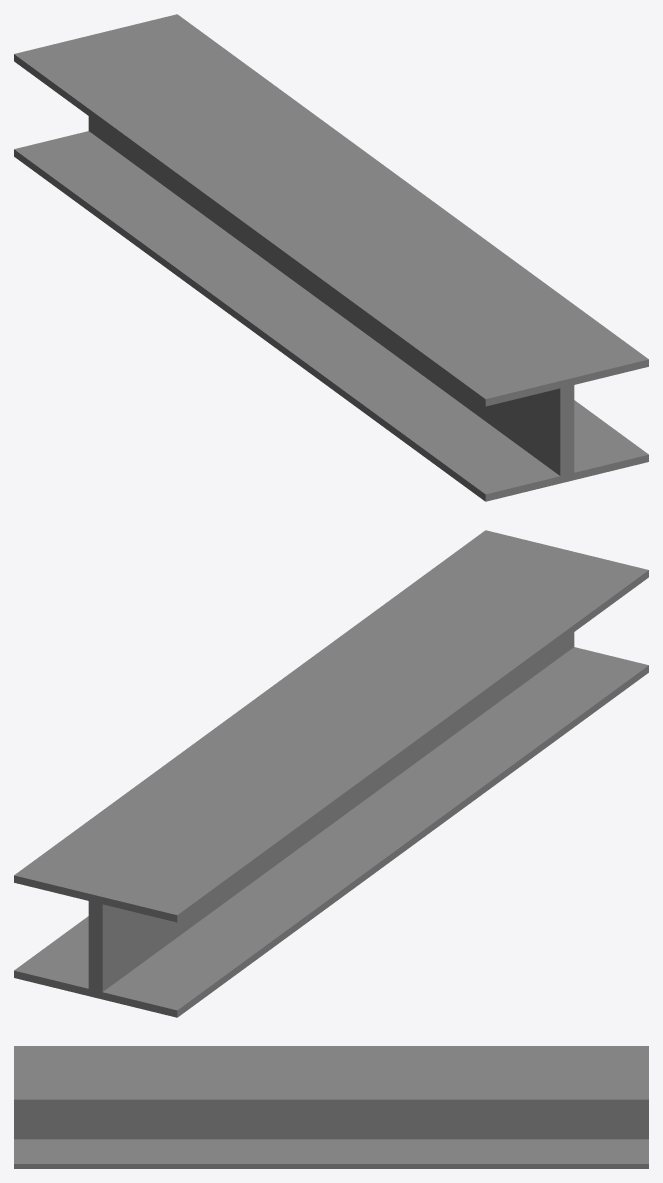
The model's file is ironbeam.glb.
3 views of the same model, one above another, from view 1: azimuth 30°, elevation 25°; view 2: azimuth 150°, elevation 25°; view 3: azimuth 270°, elevation 25° (orthographic). The views are drawn at different scales.
Visible parts, largest first — view 1: Cube; view 2: Cube; view 3: Cube.
Boxes of the visible parts, x1=… form: Cube: x1=14, y1=14, x2=648, y2=501; Cube: x1=14, y1=530, x2=648, y2=1017; Cube: x1=14, y1=1046, x2=648, y2=1168.
Bounding box in the file's own units: 2 × 1.2 × 10.
1 material, 1 textured.
